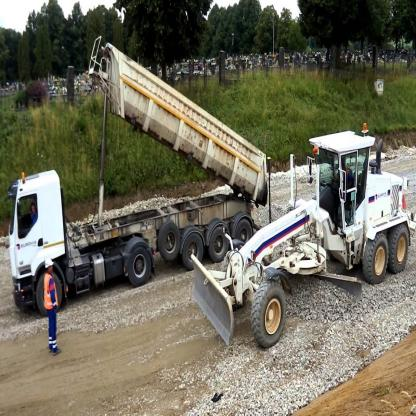bull_dozer/loader/grader: (192, 124, 416, 347)
person: (38, 252, 67, 359)
